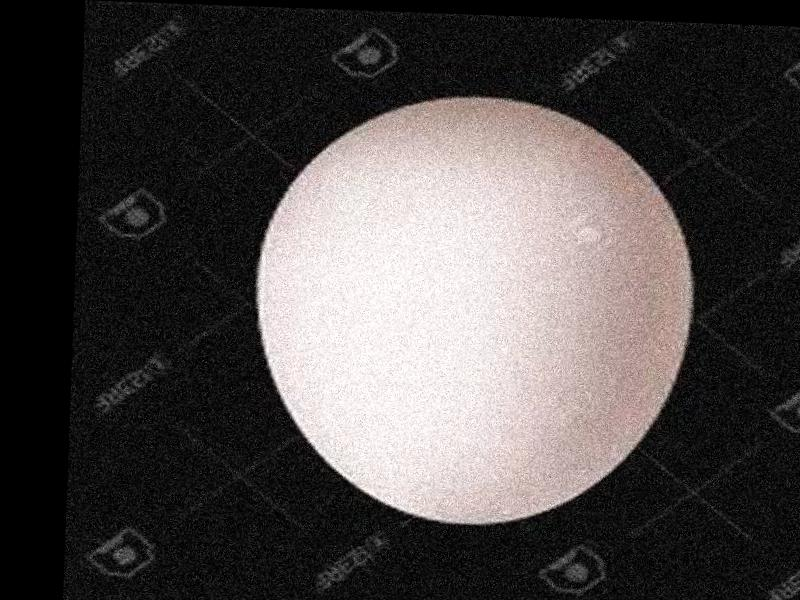Eggs: (250, 91, 692, 528)
